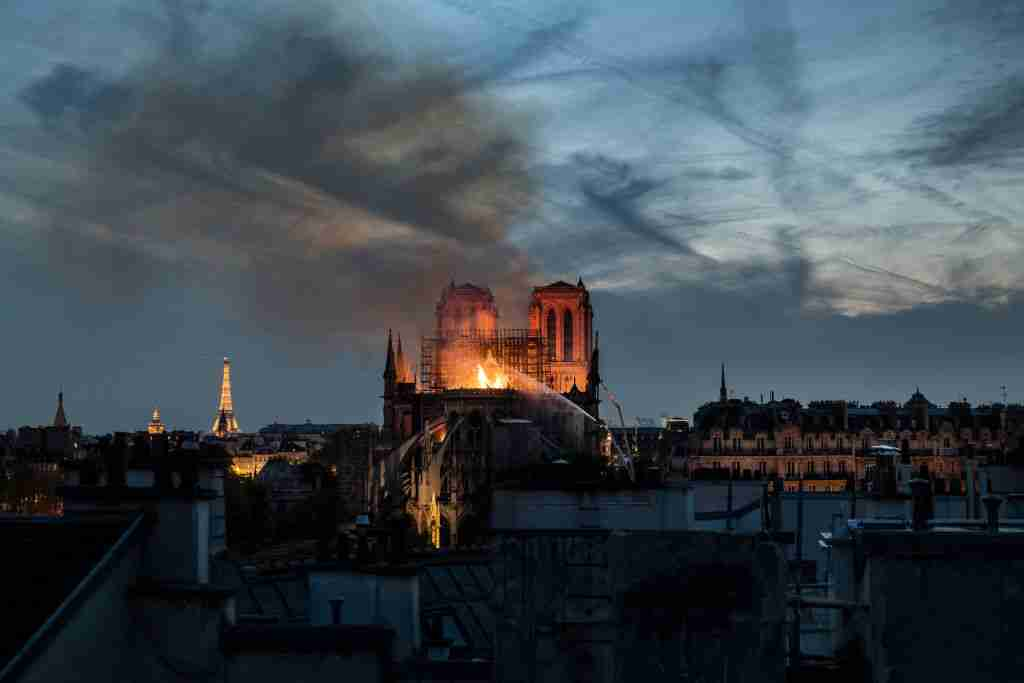fire: (448, 327, 530, 390)
